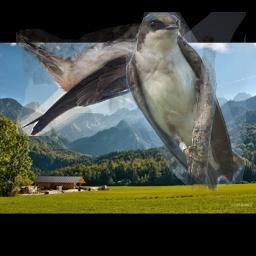Swallow: (126, 12, 246, 193), (16, 23, 191, 136)
